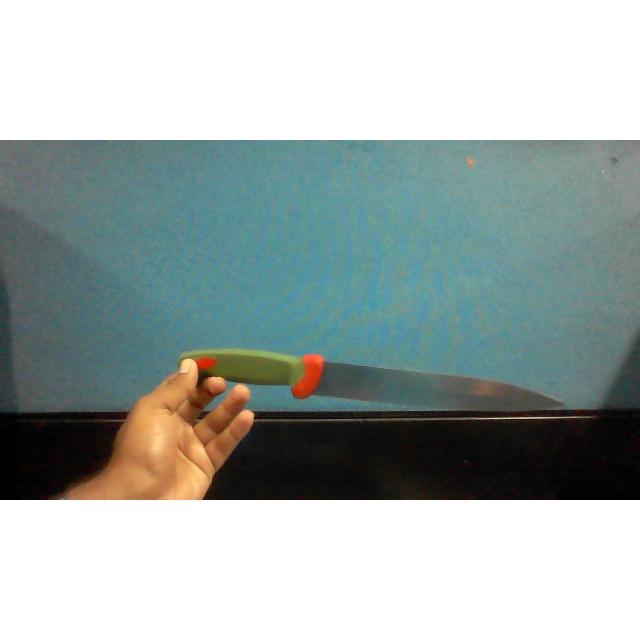Knife: (180, 349, 561, 411)
